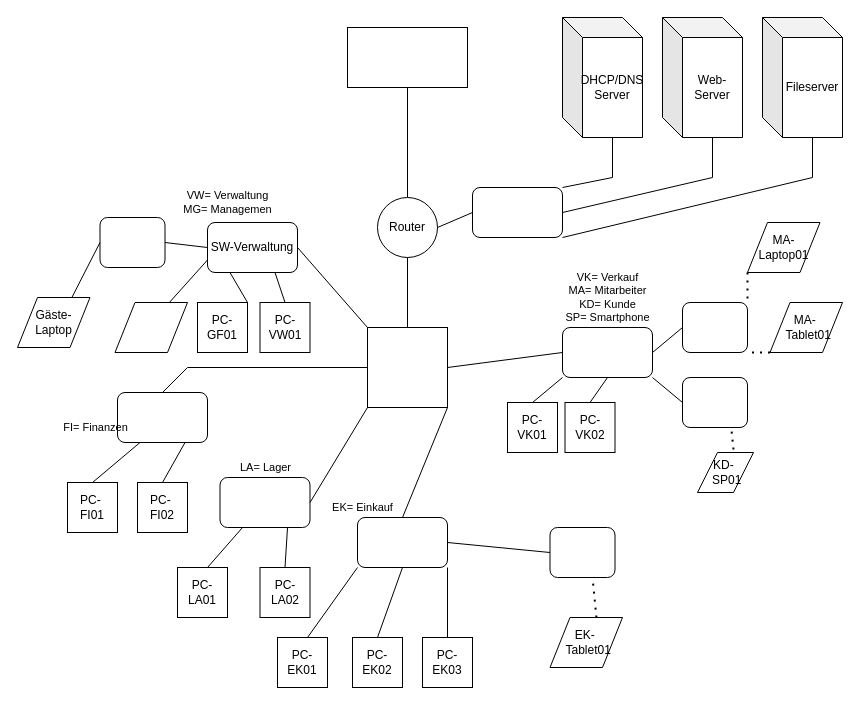
Some shapes in this 860 by 705 pixel diagram are drawn without their labels. The shapes that lost their labels are listed below. From the top down, each one's box as (x1, y1, x2, y2) in pixels, then its label:
(346, 26, 468, 88): Internet
(472, 186, 562, 238): SW-Server
(99, 216, 165, 268): AP-Gäste
(114, 302, 188, 352): MG- Laptop
(682, 302, 748, 352): AP-Mitarbeiter
(562, 326, 652, 378): SW-Verkauf
(116, 392, 208, 442): SW-Finanzen
(682, 376, 748, 428): AP-Kunden
(219, 476, 310, 528): SW-Lager
(356, 516, 448, 568): SW-Einkauf
(549, 526, 615, 578): AP-Einkauf
